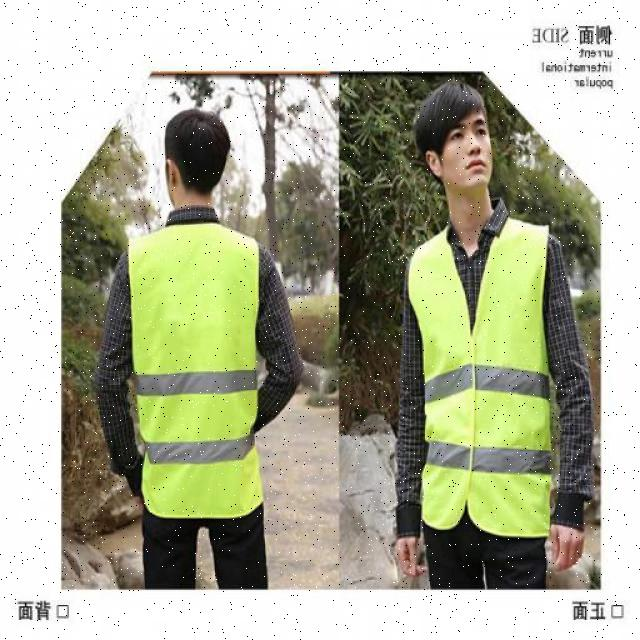Person: (403, 83, 557, 592)
Vest: (131, 226, 263, 522)
